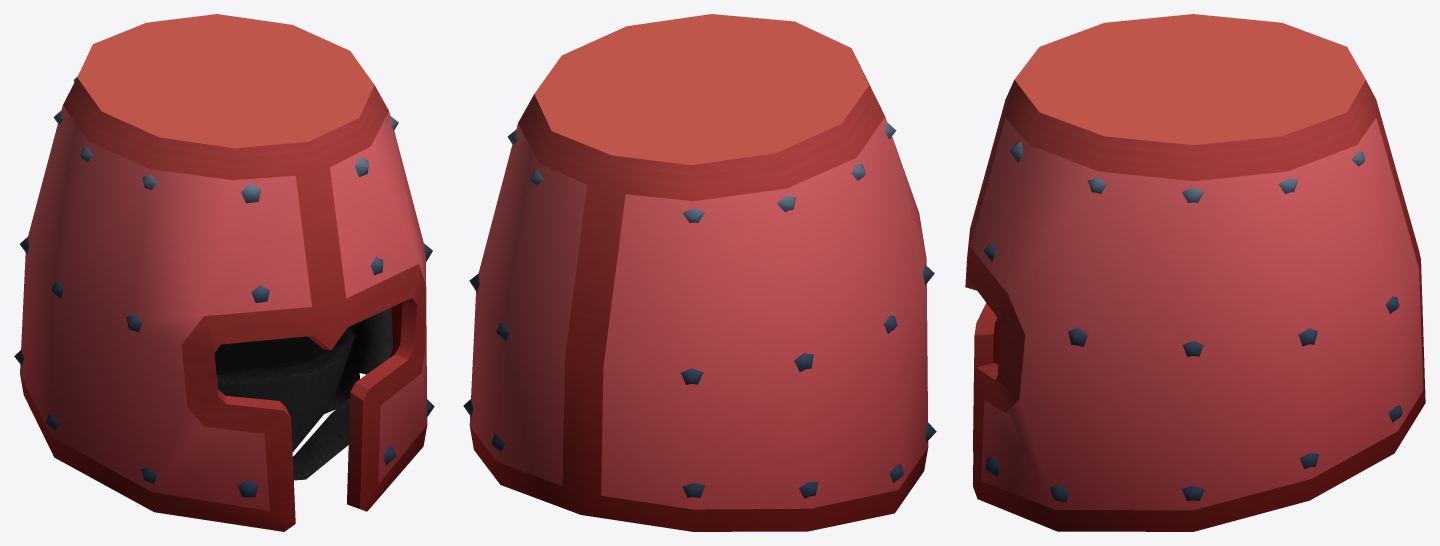
Rendered from Helmet_Red04.fbx.
3 renders of one model, left to right at view 1: azimuth 30°, elevation 25°; view 2: azimuth 150°, elevation 25°; view 3: azimuth 270°, elevation 25°, orthographic. The views are drawn at different scales.
Visible parts, largest first — view 1: Helmet_03_M_Red; view 2: Helmet_03_M_Red; view 3: Helmet_03_M_Red.
Boxes of the visible parts, bbox=[...] form: Helmet_03_M_Red: bbox=[14, 14, 434, 531]; Helmet_03_M_Red: bbox=[463, 14, 936, 531]; Helmet_03_M_Red: bbox=[965, 14, 1425, 531].
Bounding box in the file's own units: 911 × 888 × 931.
